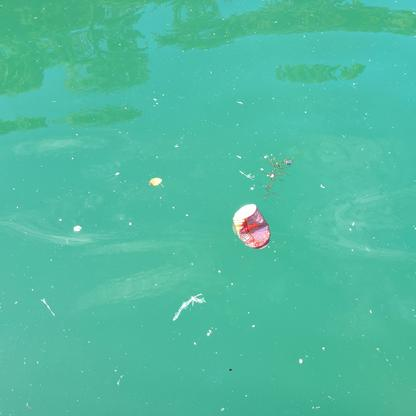can: (227, 205, 274, 249)
